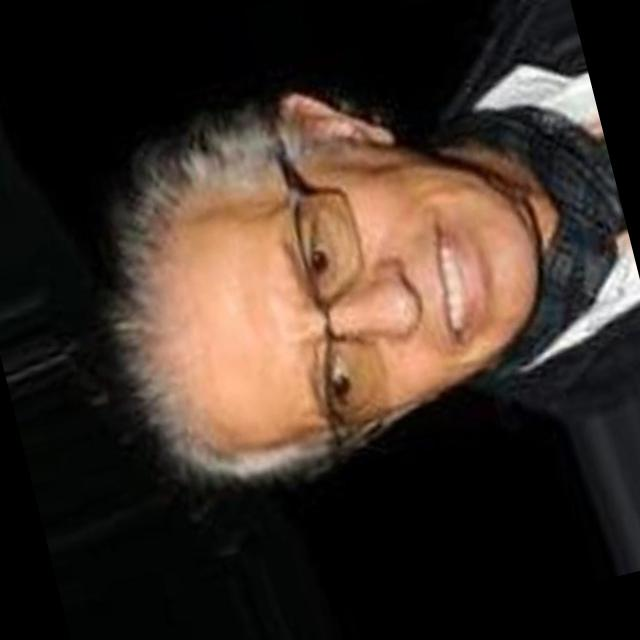bareface: (47, 56, 564, 520)
